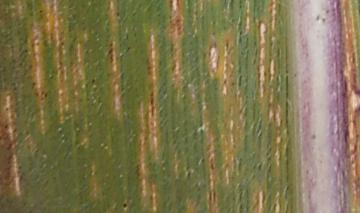tarspot: (107, 41, 115, 64), (343, 123, 350, 143), (237, 74, 244, 88), (185, 170, 193, 179), (38, 8, 45, 16), (32, 90, 39, 98), (124, 46, 131, 54), (314, 14, 320, 23), (43, 91, 49, 100), (30, 81, 36, 90), (115, 10, 120, 20), (59, 40, 66, 47), (199, 157, 206, 164), (121, 201, 127, 209), (3, 123, 9, 131), (321, 16, 327, 24), (324, 8, 330, 16), (131, 11, 137, 19), (238, 29, 244, 37), (222, 77, 227, 86), (90, 77, 96, 84), (22, 48, 29, 54), (4, 106, 9, 113), (230, 80, 235, 86)
